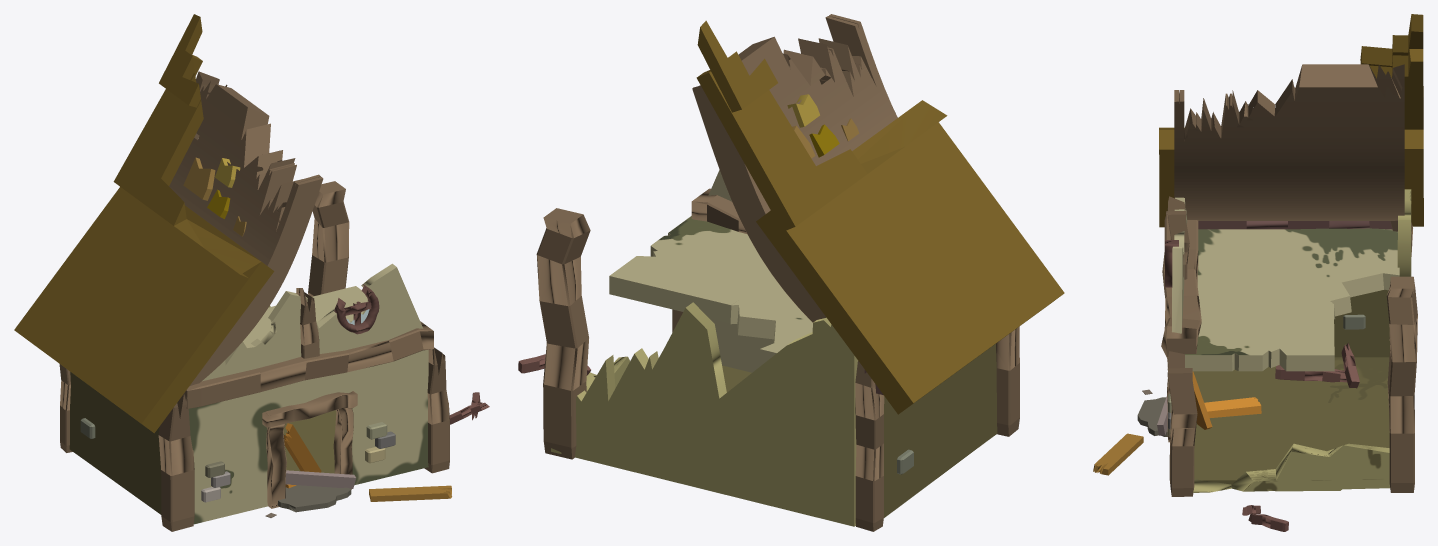
The model's file is house111.glb.
3 views of the same model, side by side, from view 1: azimuth 30°, elevation 25°; view 2: azimuth 150°, elevation 25°; view 3: azimuth 270°, elevation 25° (orthographic). The views are drawn at different scales.
Visible parts, largest first — view 1: Cube; view 2: Cube; view 3: Cube.
Boxes of the visible parts, x1,y1,x2,y2 form: Cube: (14, 14, 489, 531); Cube: (518, 14, 1064, 531); Cube: (1093, 14, 1423, 531).
Size of the model in its own units: 9.9 by 9.48 by 6.84.
40 materials, 5 textured.
